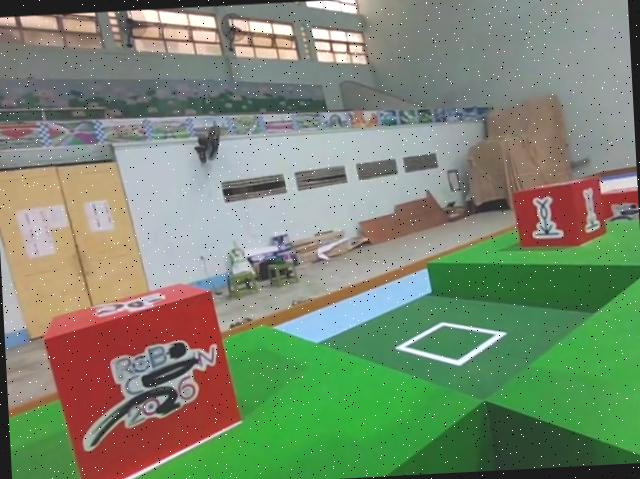R1: (36, 275, 245, 479), (597, 183, 640, 232)
R2 Real: (509, 170, 609, 251)
